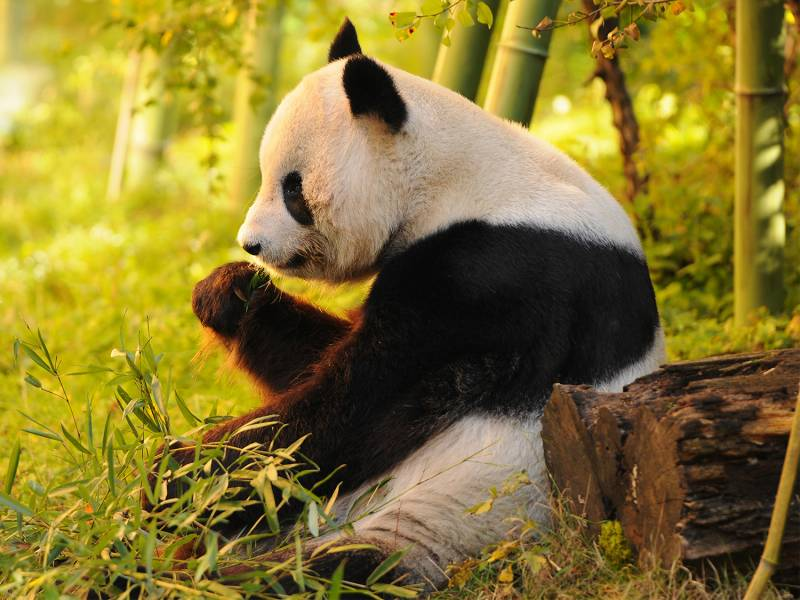Giant panda: (234, 19, 410, 283)
